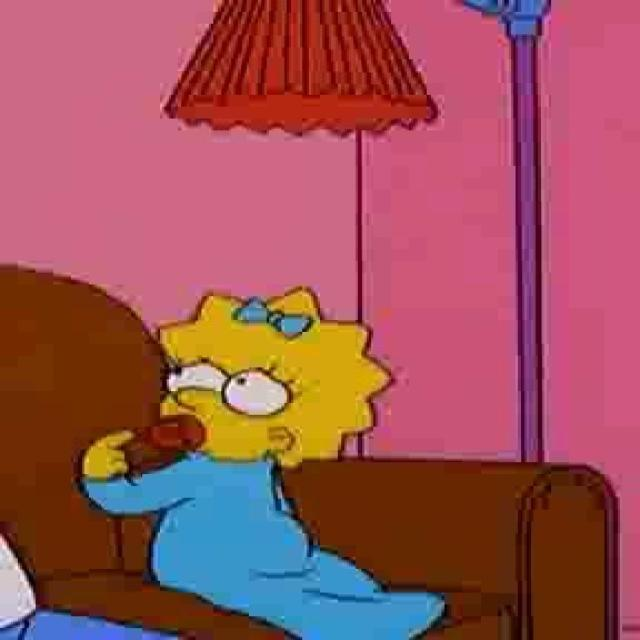Maggie Simpson: (143, 285, 399, 471)
